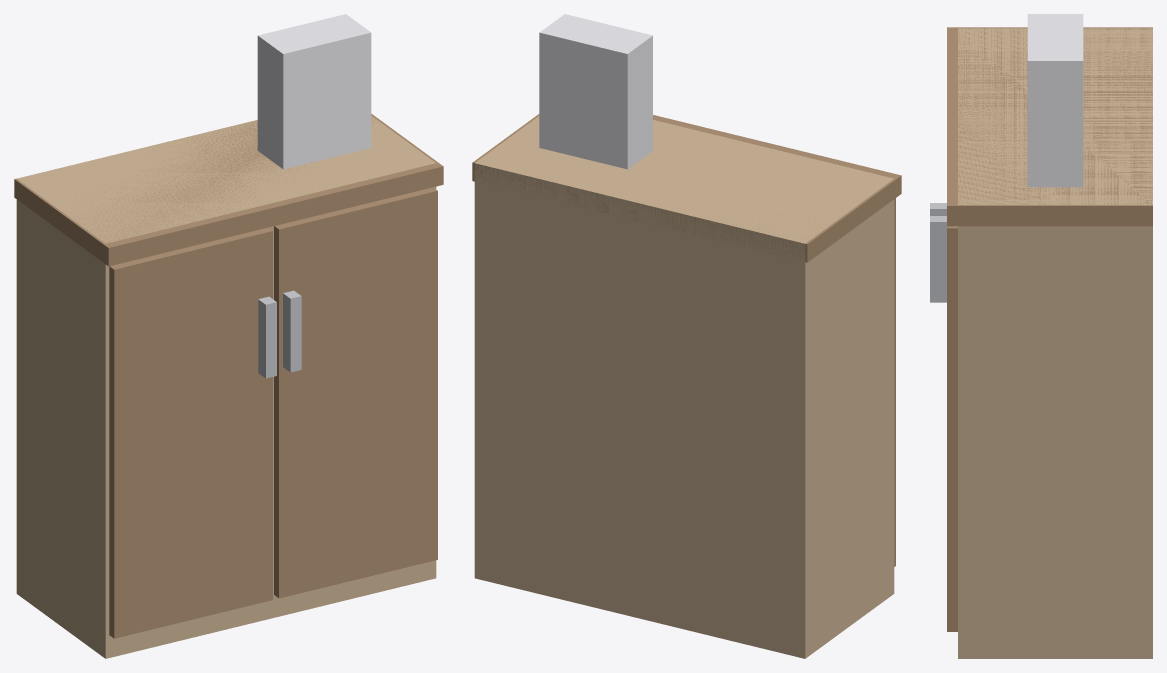
File: shoe_cabinet.glb
3 views of the same model, side by side, from view 1: azimuth 30°, elevation 25°; view 2: azimuth 150°, elevation 25°; view 3: azimuth 270°, elevation 25° (orthographic). The views are drawn at different scales.
Visible parts, largest first — view 1: shoe_cabinet; view 2: shoe_cabinet; view 3: shoe_cabinet.
Part boxes in pixels (box(x1,y1,x2,y2)): shoe_cabinet: box(14, 14, 443, 658); shoe_cabinet: box(472, 14, 901, 658); shoe_cabinet: box(930, 14, 1152, 658).
Size of the model in its own units: 0.76 by 1.15 by 0.4.
